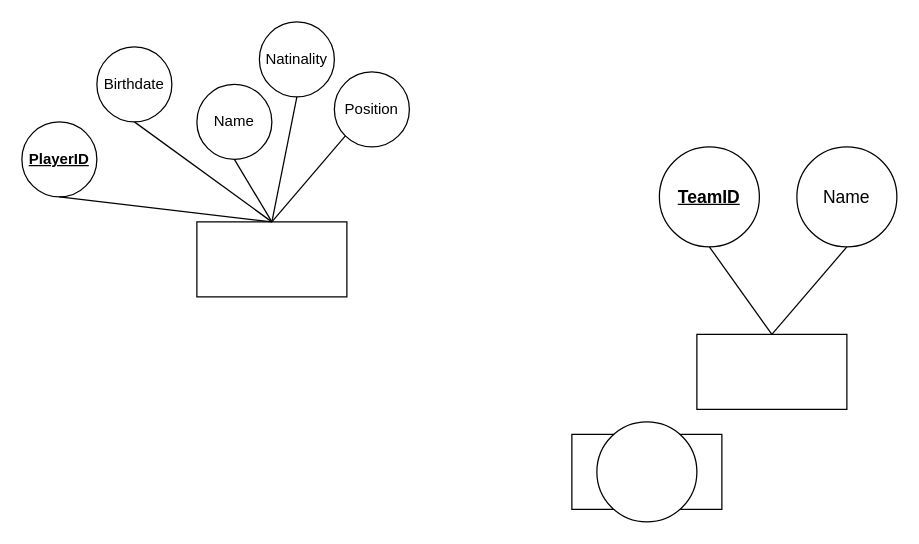
This 919x544 diagram has some shape labels left out. Each missing label, with the centre of its shape:
"Players" goes at [271,259].
"Teams" goes at [771,371].
